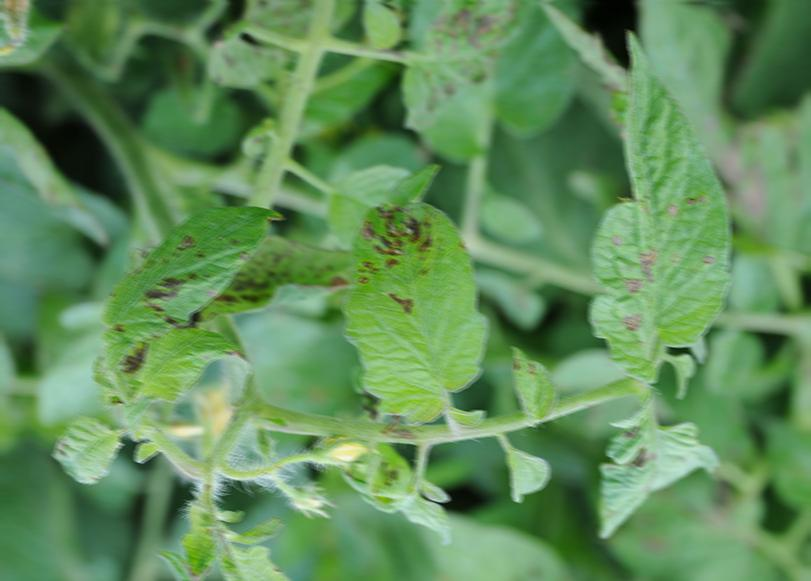Tomato leaf bacterial spot: (582, 10, 736, 366), (353, 160, 492, 421), (85, 179, 250, 380)
